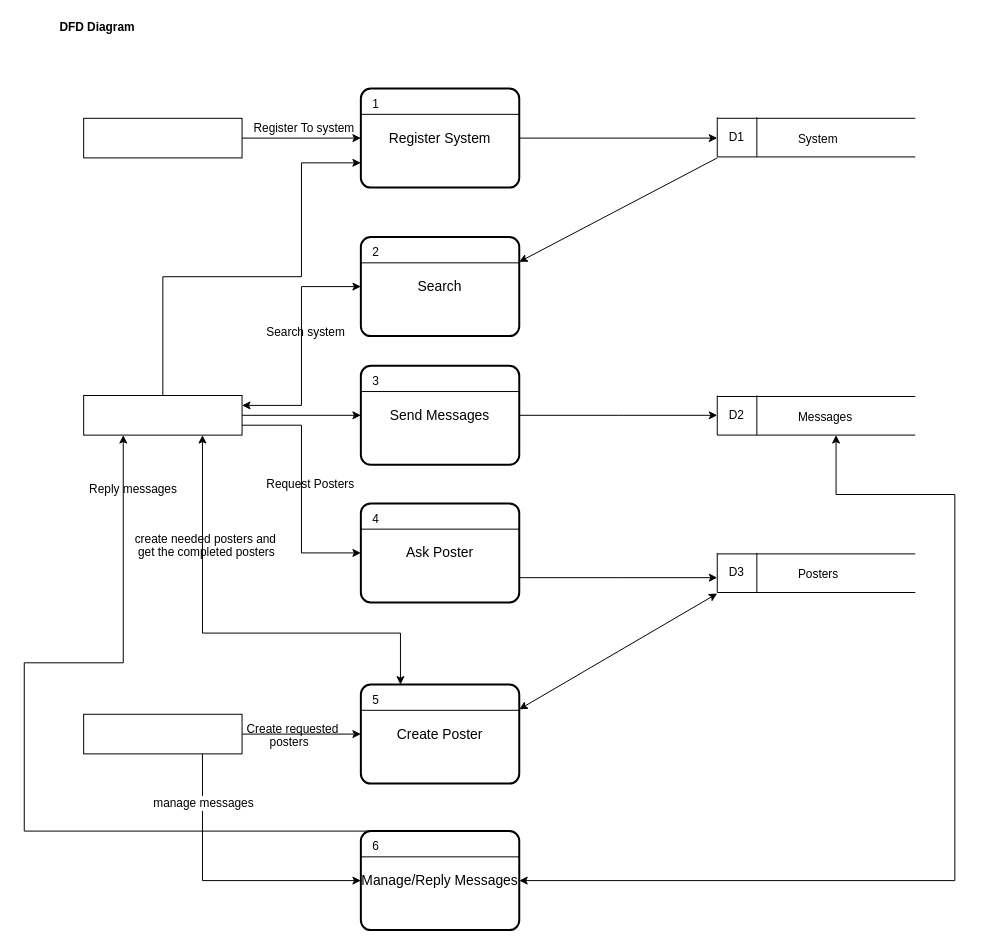
This 981x947 diagram has some shape labels left out. Here are the shapes that lost their labels. From the top down, the centre of each, then its label:
At (x=162, y=137): "User".
At (x=162, y=415): "Customer".
At (x=162, y=733): "Service Provider".
